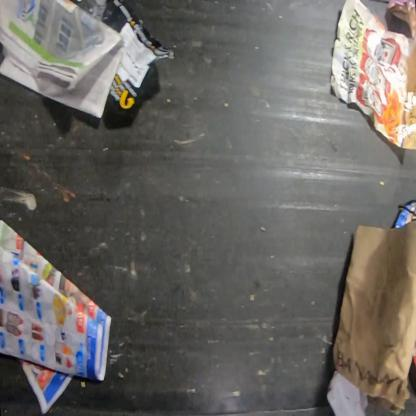cardboard: (332, 220, 415, 415)
